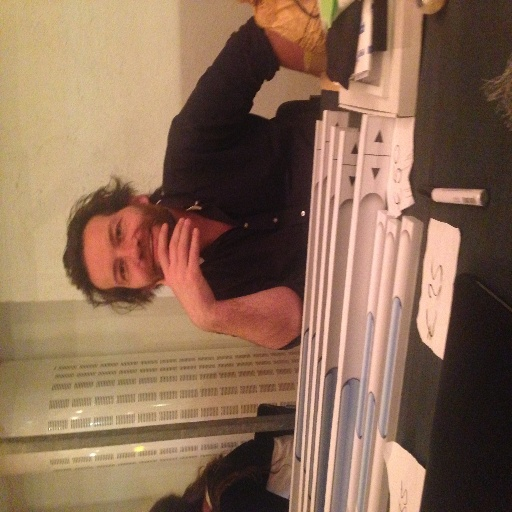hand: (149, 197, 216, 321)
